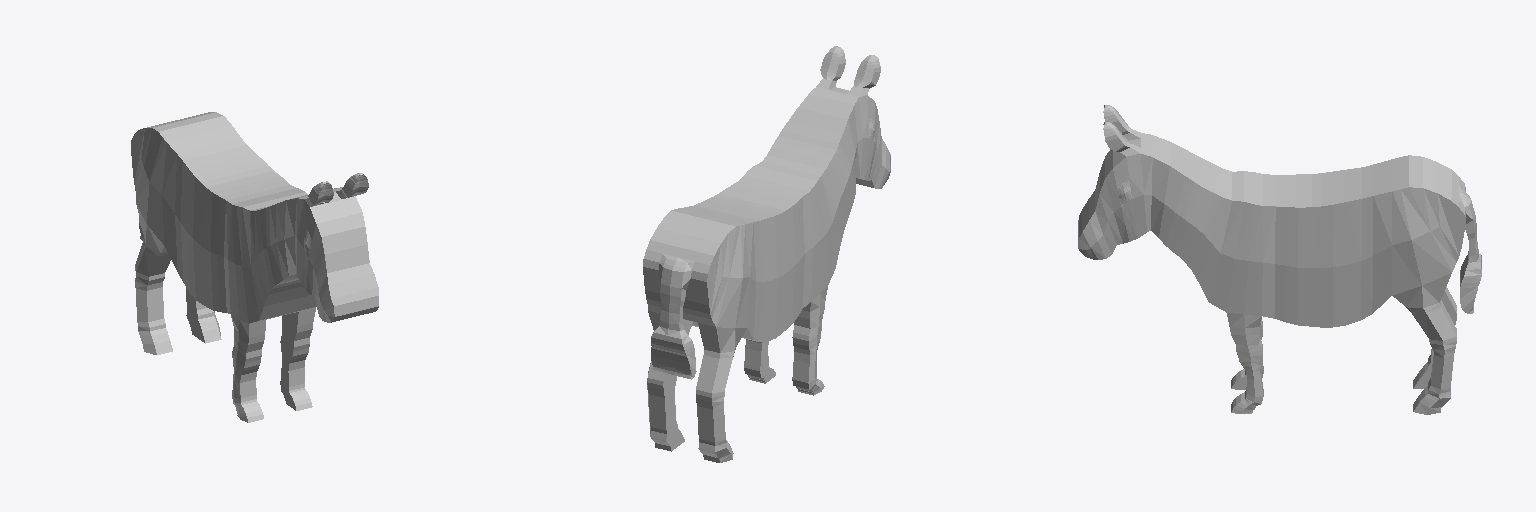
Rendered from donkey.obj.
The picture shows the model from 3 angles: view 1: azimuth 30°, elevation 25°; view 2: azimuth 150°, elevation 25°; view 3: azimuth 270°, elevation 25°; orthographic projection.
Parts seen in each view (by area): view 1: Plane; view 2: Plane; view 3: Plane.
Boxes of the visible parts, <box> form: Plane: <box>131,112,378,422</box>; Plane: <box>643,46,890,462</box>; Plane: <box>1078,105,1481,414</box>.
Bounding box in the file's own units: 1.04 × 3.45 × 4.46.